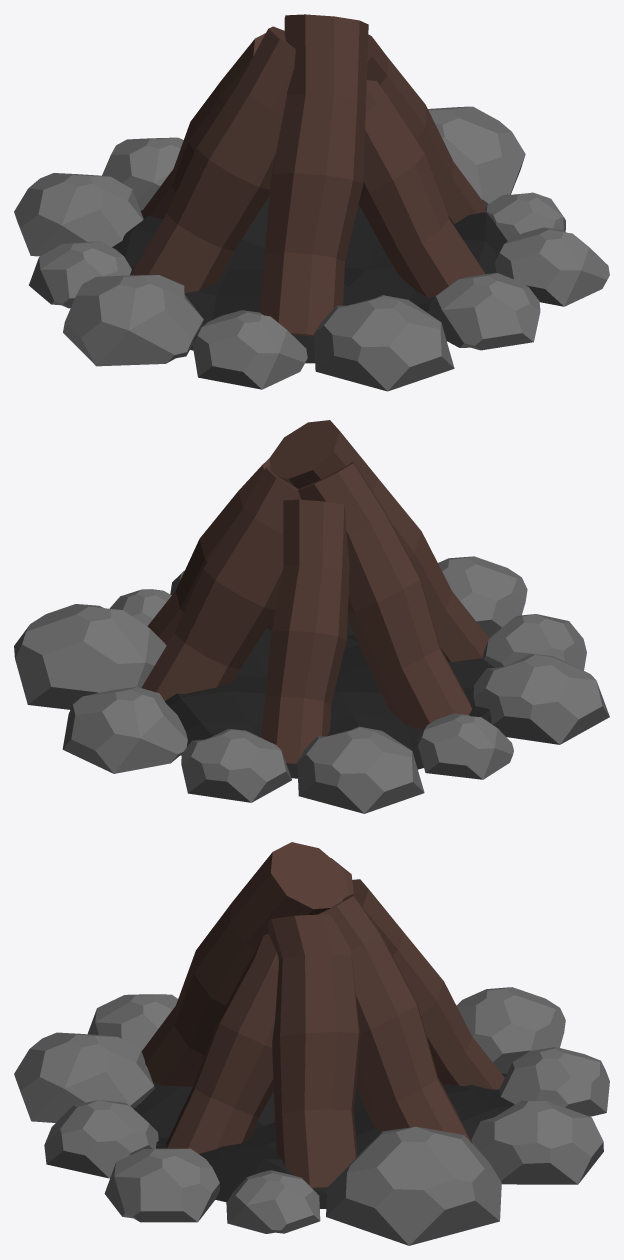
The model's file is campfire.glb.
3 views of the same model, one above another, from view 1: azimuth 30°, elevation 25°; view 2: azimuth 150°, elevation 25°; view 3: azimuth 270°, elevation 25° (orthographic). The views are drawn at different scales.
Visible parts, largest first — view 1: Wood, Rocks, Ash; view 2: Wood, Rocks, Ash; view 3: Wood, Rocks, Ash.
Part boxes in pixels (<box>): Wood: <box>130,14,486,336</box>; Rocks: <box>14,106,609,391</box>; Ash: <box>112,196,507,363</box>; Wood: <box>141,420,489,764</box>; Rocks: <box>14,556,609,813</box>; Ash: <box>165,619,494,778</box>; Wood: <box>141,842,504,1188</box>; Rocks: <box>14,987,609,1245</box>; Ash: <box>134,1073,514,1208</box>.
Bounding box in the file's own units: 1.29 × 0.6926 × 1.26.
